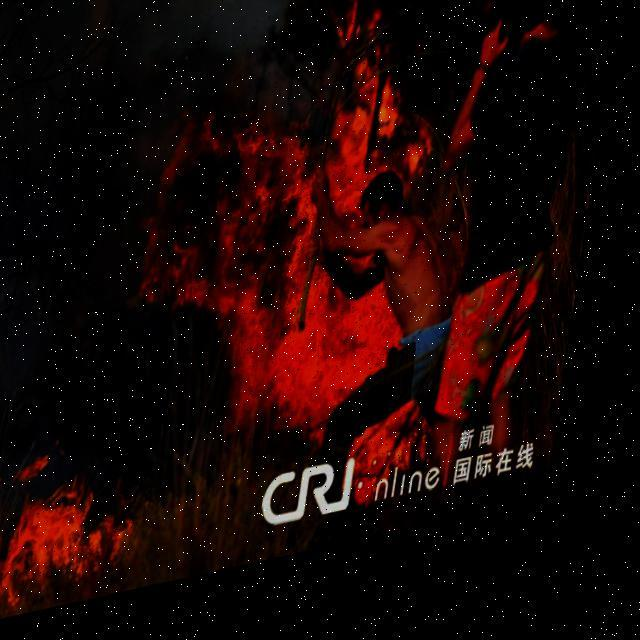Fire: (120, 0, 522, 556)
